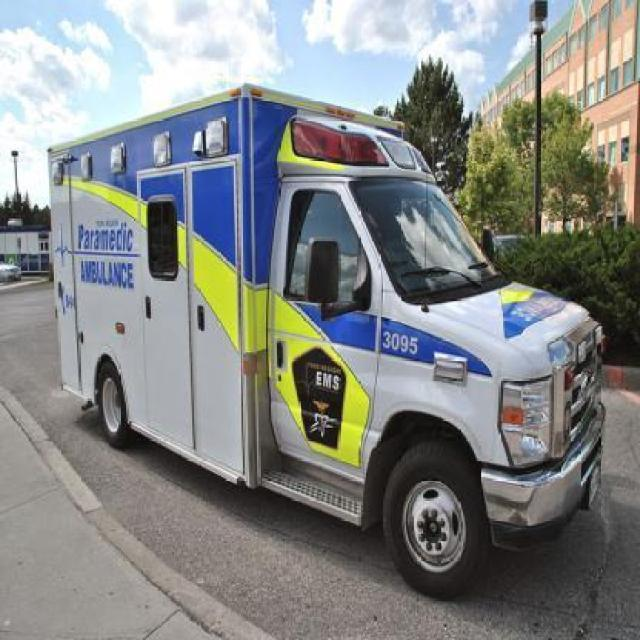emergency: (42, 80, 606, 596)
